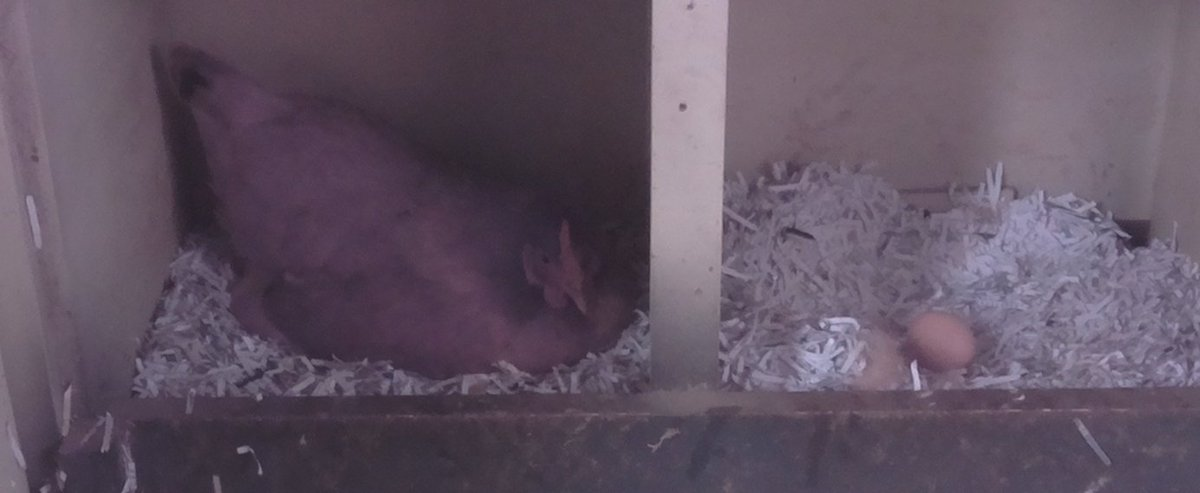egg: (906, 309, 979, 373)
hen: (169, 45, 642, 376)
